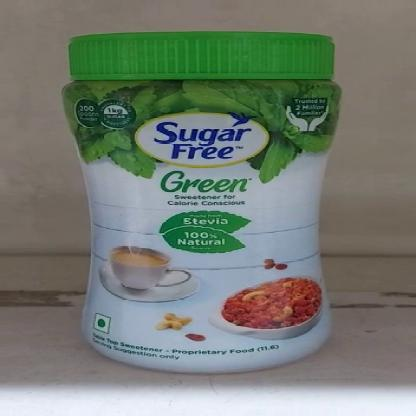SUGAR FREE_GRN_ POWDER_CONC_100G: (56, 29, 346, 376)
